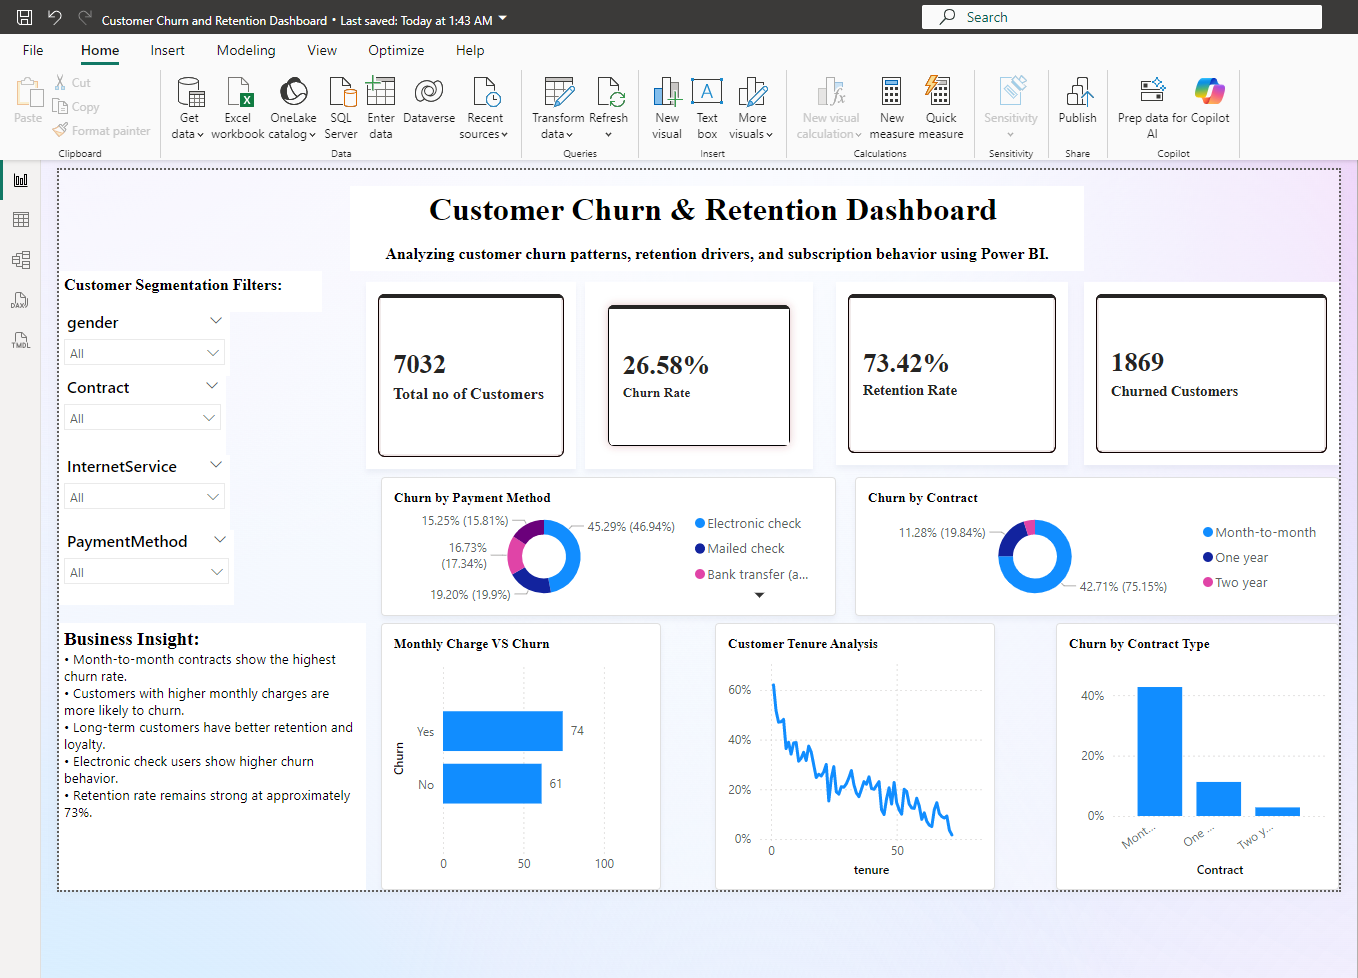

The page's visual inventory and layout, read from the dashboard file:
{"tool":"powerbi","page":{"name":"Page 1","canvas":[1280,720],"ordinal":0},"visuals":[{"type":"cardVisual","fields":{"Data":["Sum(cleaned_churn_data.ChurnValue)"]},"box":[1025,112,255,183],"z":0},{"type":"cardVisual","fields":{"Data":["Count(cleaned_churn_data.customerID)"]},"box":[307,112,210,187],"z":1000},{"type":"cardVisual","fields":{"Data":["cleaned_churn_data.Churn Rate"]},"box":[526,112,228,187],"z":2000},{"type":"cardVisual","fields":{"Data":["cleaned_churn_data.Retention Rate"]},"box":[777,112,232,183],"z":3000},{"type":"clusteredColumnChart","title":"Churn by Contract Type","fields":{"Y":["cleaned_churn_data.Churn Percentage"],"Category":["cleaned_churn_data.Contract"]},"box":[997,453,283,267],"z":4000},{"type":"donutChart","title":"Churn  by Payment Method","fields":{"Category":["cleaned_churn_data.PaymentMethod"],"Y":["cleaned_churn_data.Churn Percentage"]},"box":[322,307,455,139],"z":5000},{"type":"donutChart","title":"Churn by Contract","fields":{"Y":["cleaned_churn_data.Churn Percentage"],"Category":["cleaned_churn_data.Contract"]},"box":[796,307,484,139],"z":6000},{"type":"clusteredBarChart","title":"Monthly Charge VS Churn ","fields":{"Category":["cleaned_churn_data.Churn"],"Y":["Avg(cleaned_churn_data.MonthlyCharges)"]},"box":[322,453,280,267],"z":7000},{"type":"lineChart","title":"Customer Tenure Analysis","fields":{"Category":["cleaned_churn_data.tenure"],"Y":["cleaned_churn_data.Churn Percentage"]},"box":[656,453,280,267],"z":8000},{"type":"slicer","fields":{"Values":["cleaned_churn_data.gender"]},"box":[0,141,171,65],"z":9000},{"type":"slicer","fields":{"Values":["cleaned_churn_data.Contract"]},"box":[0,206,167,79],"z":10000},{"type":"slicer","fields":{"Values":["cleaned_churn_data.InternetService"]},"box":[0,285,171,75],"z":10001},{"type":"slicer","fields":{"Values":["cleaned_churn_data.PaymentMethod"]},"box":[0,360,175,75],"z":10002},{"type":"textbox","box":[291,16,734,85],"z":10003},{"type":"textbox","box":[0,453,307,267],"z":10004},{"type":"textbox","box":[0,101,263,41],"z":10005}]}

Visuals, with their boxes on the page's 1280x720 design canvas (x1, y1, x2, y2). These are canvas units, not pixel positions in the 1358x978 screenshot, which may show the page scaled, cropped or inside an application window:
cardVisual - Sum(cleaned_churn_data.ChurnValue): rect(1025, 112, 1280, 295)
cardVisual - Count(cleaned_churn_data.customerID): rect(307, 112, 517, 299)
cardVisual - cleaned_churn_data.Churn Rate: rect(526, 112, 754, 299)
cardVisual - cleaned_churn_data.Retention Rate: rect(777, 112, 1009, 295)
"Churn by Contract Type" clusteredColumnChart: rect(997, 453, 1280, 720)
"Churn  by Payment Method" donutChart: rect(322, 307, 777, 446)
"Churn by Contract" donutChart: rect(796, 307, 1280, 446)
"Monthly Charge VS Churn " clusteredBarChart: rect(322, 453, 602, 720)
"Customer Tenure Analysis" lineChart: rect(656, 453, 936, 720)
slicer - cleaned_churn_data.gender: rect(0, 141, 171, 206)
slicer - cleaned_churn_data.Contract: rect(0, 206, 167, 285)
slicer - cleaned_churn_data.InternetService: rect(0, 285, 171, 360)
slicer - cleaned_churn_data.PaymentMethod: rect(0, 360, 175, 435)
textbox: rect(291, 16, 1025, 101)
textbox: rect(0, 453, 307, 720)
textbox: rect(0, 101, 263, 142)
